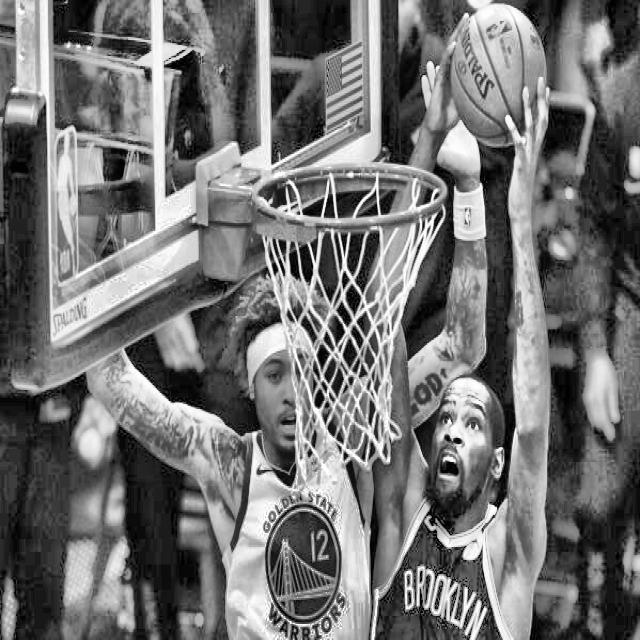Basketball: (452, 3, 548, 146)
